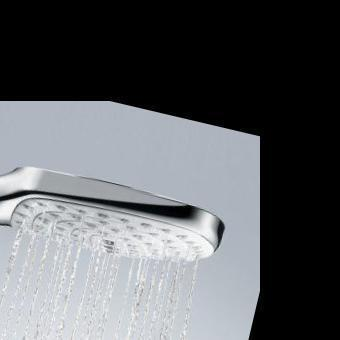Ducha: (0, 67, 293, 340)
